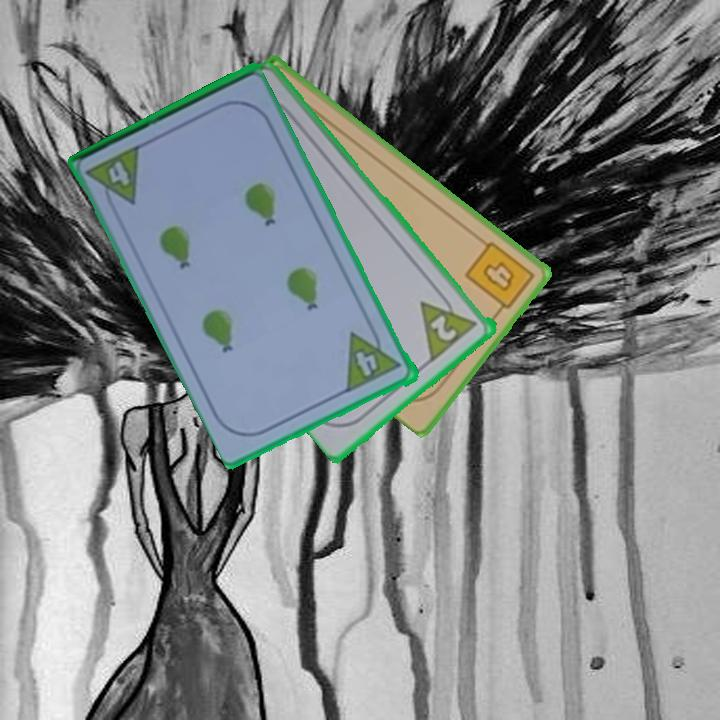2p: (416, 285, 481, 363)
4b: (461, 237, 538, 319)
4p: (343, 321, 405, 395), (83, 142, 143, 217)
